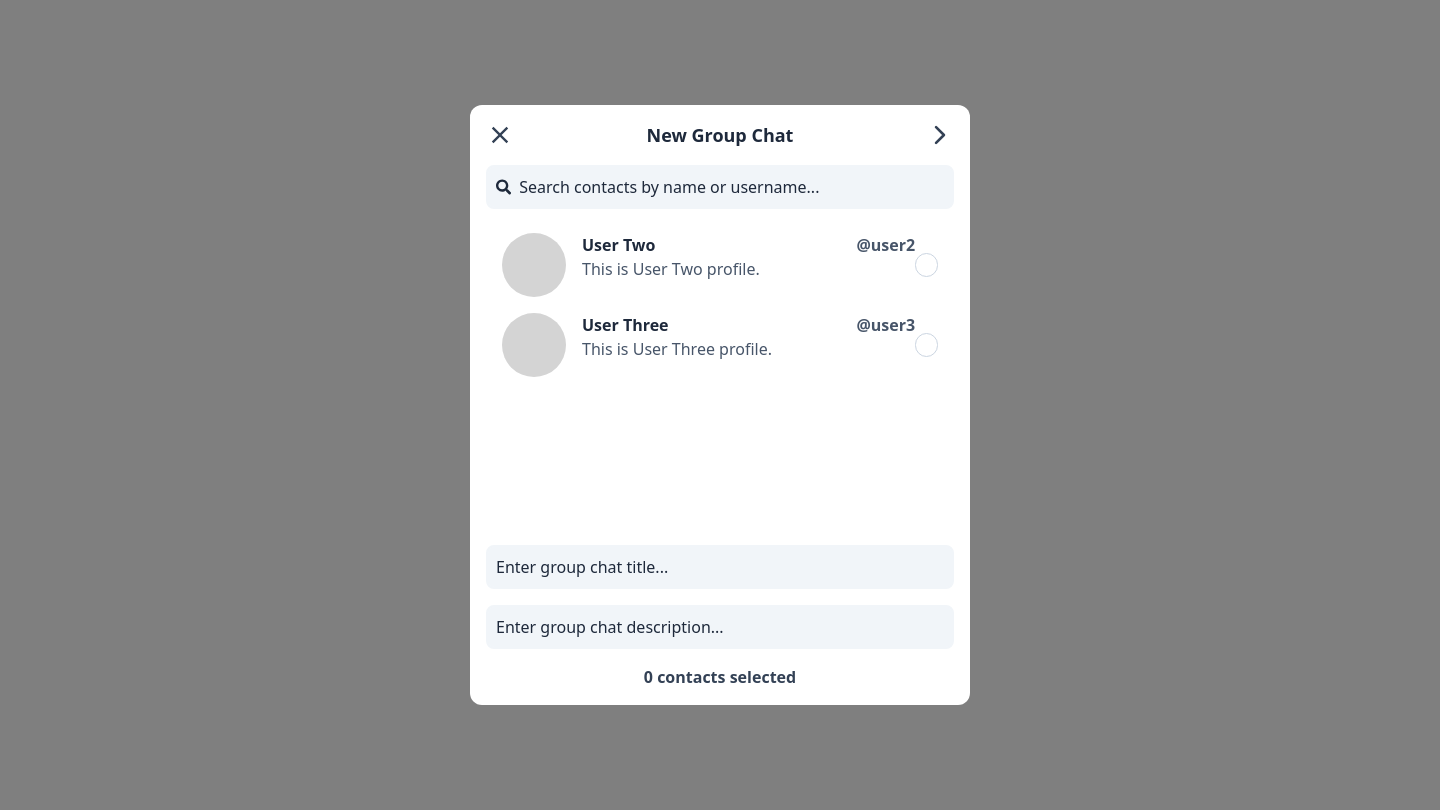
it: <NewChatModal /> › Group Chat Modal › prevents starting group chat with existing title
Click the element showing "User Two @user2 This is User Two profile." at (720, 265), box [486,225,954,305]
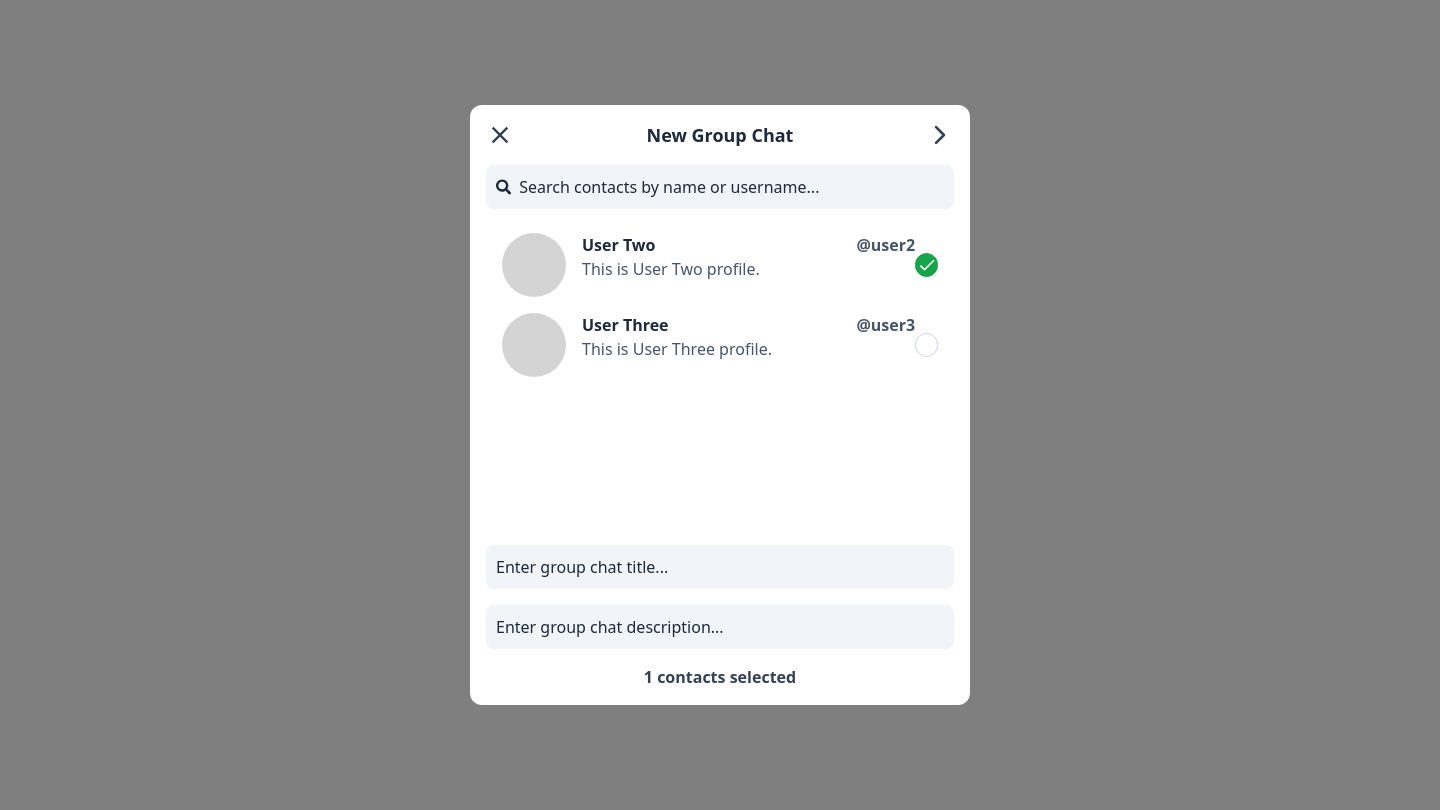
Click the element showing "User Three @user3 This is User Three profile." at (720, 345), box [486,305,954,385]
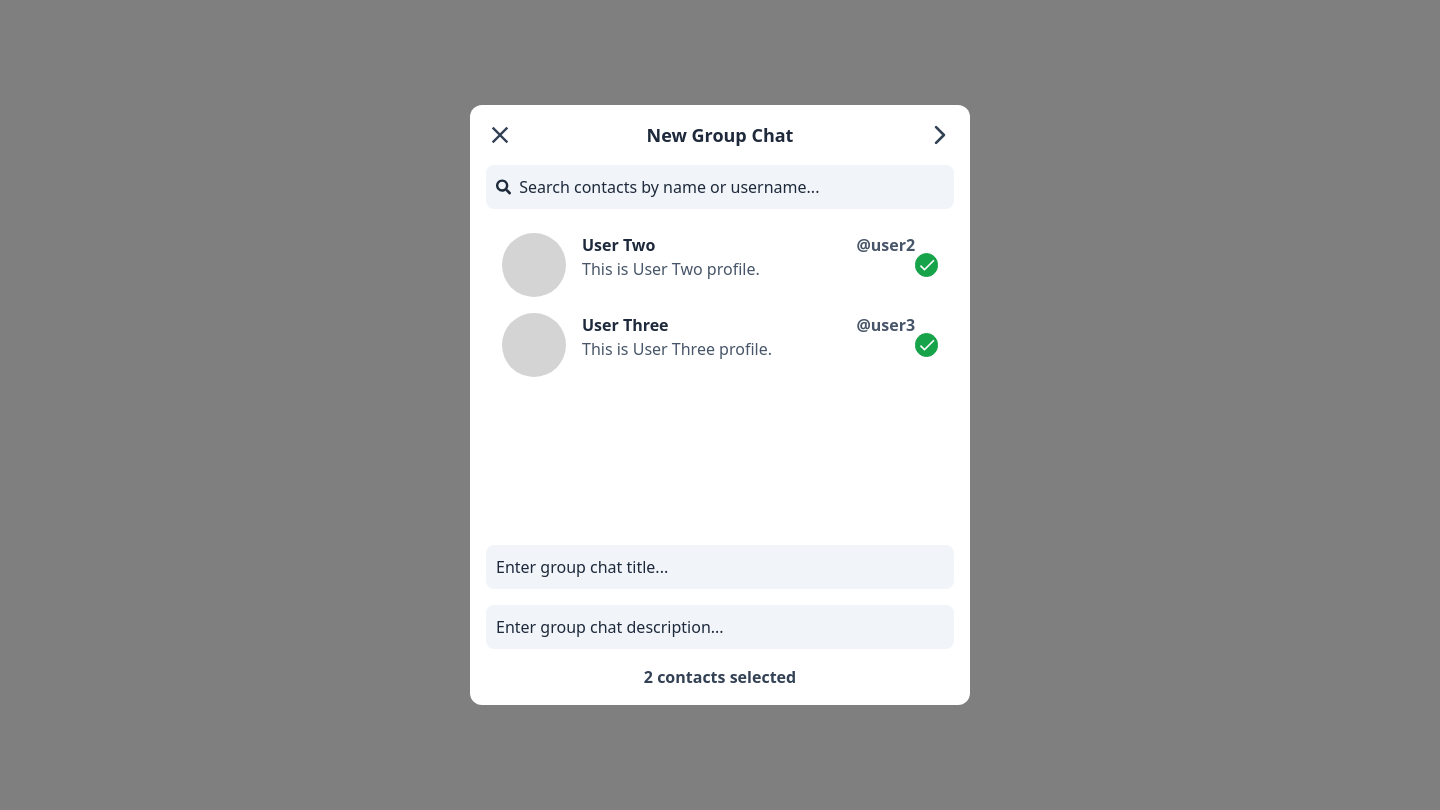
Type "Test Group Chat" into the field with test id "group-chat-title-input" at (720, 567), box [496,555,944,579]
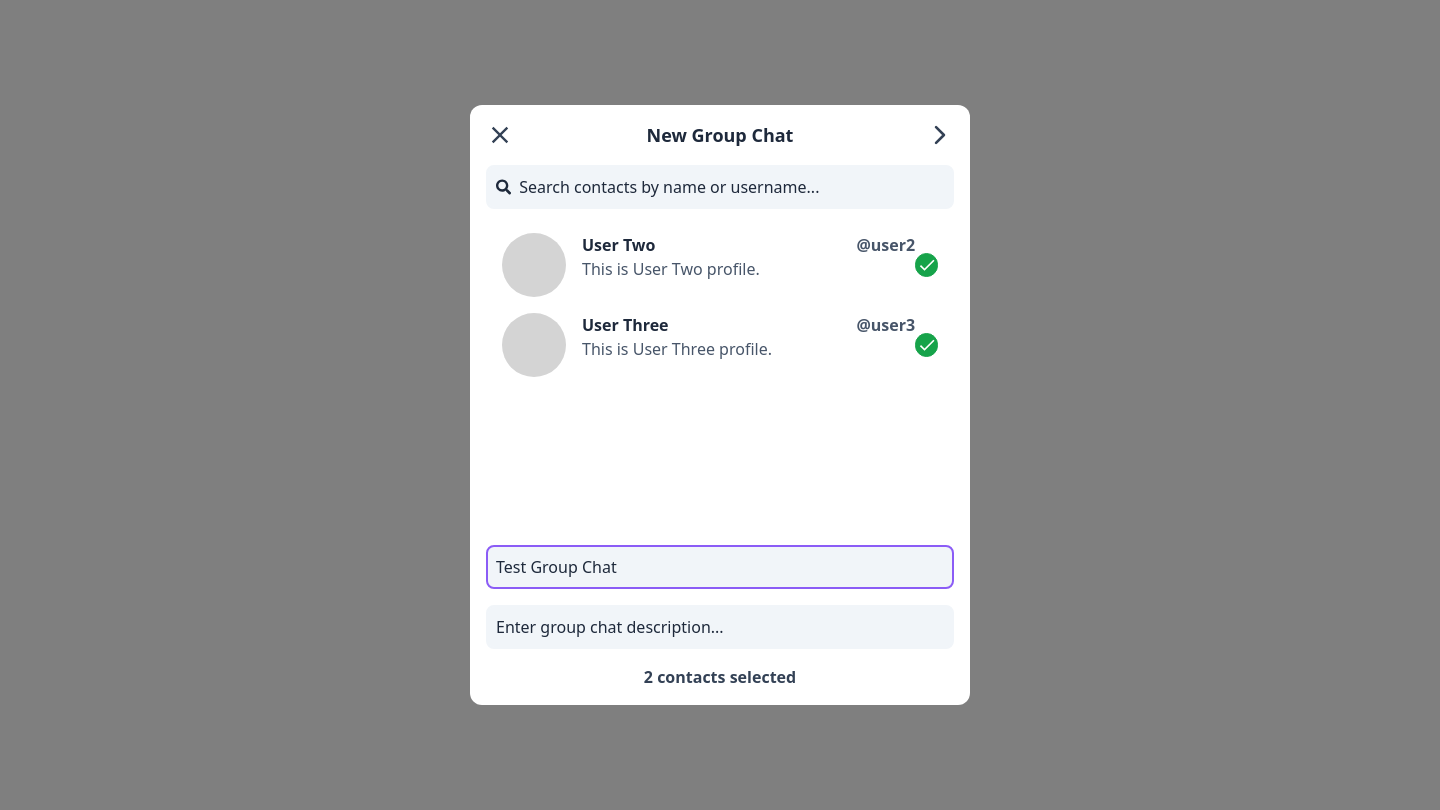
Type "This is a test group chat" into the field with test id "group-chat-description-input" at (720, 627), box [496,615,944,639]
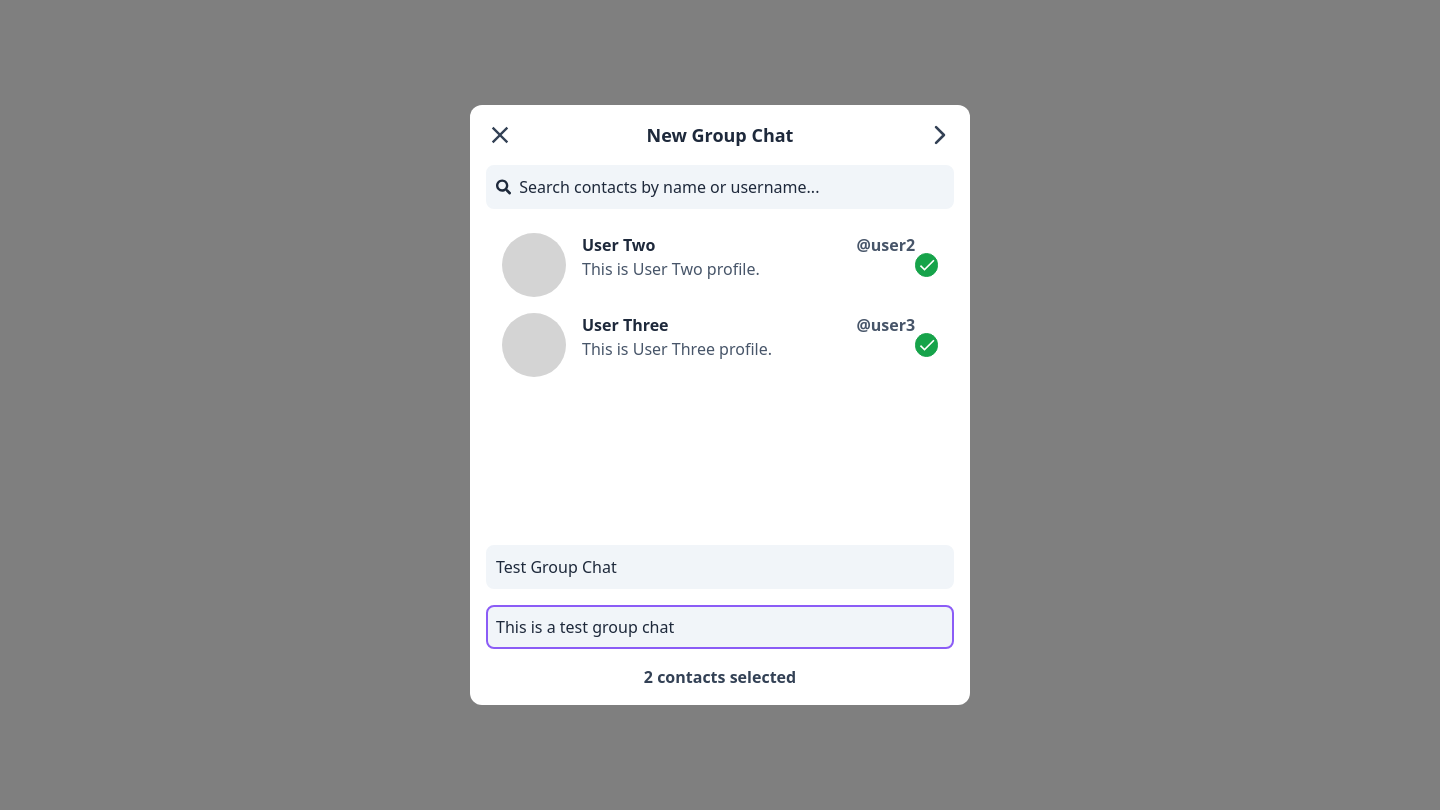
Click the button with test id "start-new-group-chat-button" at (940, 135), box [926,121,954,149]
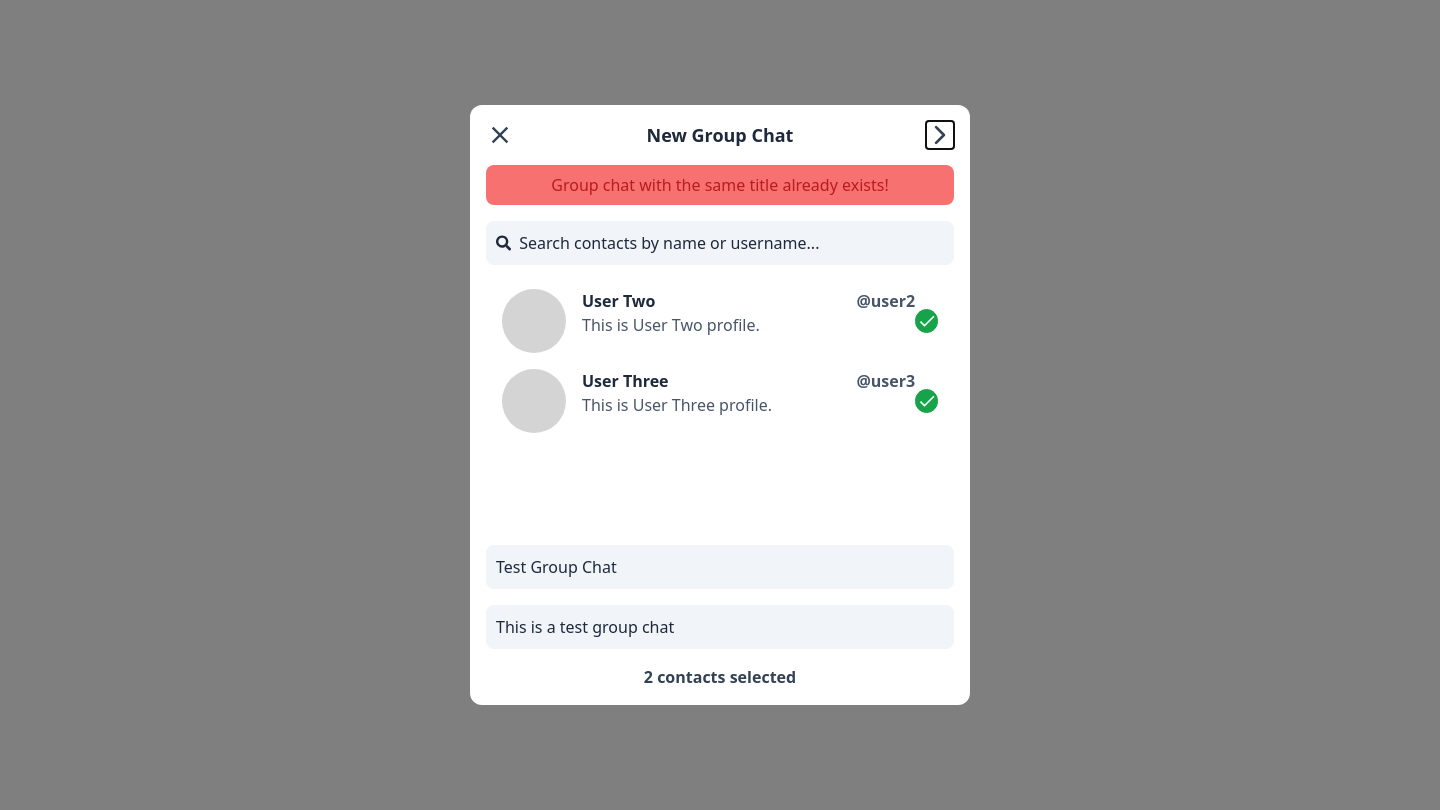
expect the text "Group chat with the same title already exists!" is shown: met, box [486,165,954,205]
